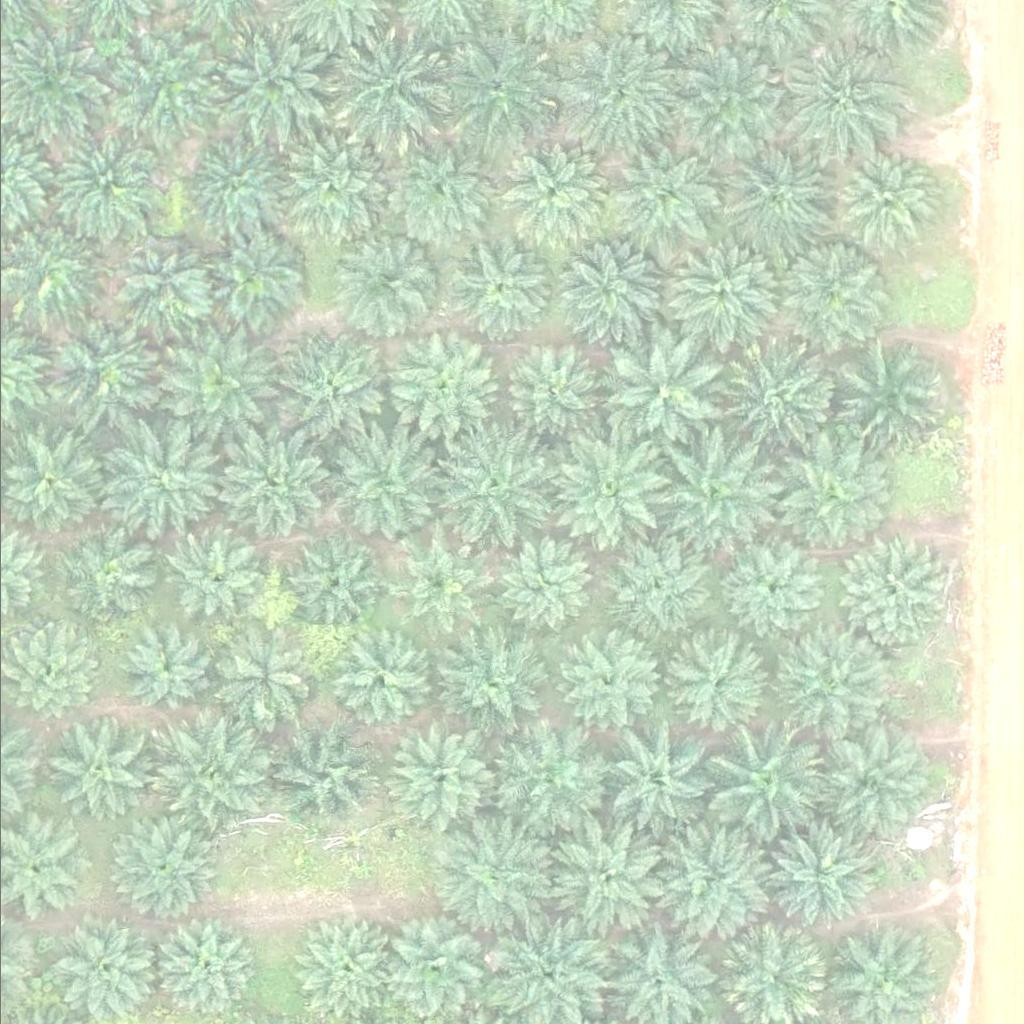Kelapa_Sawit: (104, 811, 218, 924), (762, 822, 876, 935), (553, 822, 667, 935), (493, 721, 607, 834), (552, 438, 666, 551), (608, 335, 722, 448), (603, 143, 717, 256), (210, 30, 324, 143), (649, 818, 762, 931), (435, 815, 548, 928), (712, 728, 825, 841), (438, 626, 551, 739), (142, 718, 255, 831), (831, 535, 944, 648), (770, 433, 883, 546), (94, 418, 207, 531), (162, 325, 275, 438), (278, 332, 391, 445), (389, 324, 502, 437), (774, 236, 887, 349), (670, 237, 783, 350), (438, 230, 551, 343), (330, 225, 443, 338), (196, 222, 309, 335), (272, 123, 385, 236), (715, 134, 828, 247), (669, 48, 782, 161), (565, 28, 678, 141), (773, 632, 887, 744), (323, 433, 437, 545), (495, 141, 609, 253), (374, 728, 487, 840), (599, 722, 712, 834), (811, 726, 924, 838), (271, 716, 384, 828), (603, 526, 716, 638), (655, 436, 768, 548), (435, 432, 548, 544), (218, 429, 331, 541), (37, 315, 150, 427), (834, 345, 947, 457), (723, 338, 836, 450), (545, 231, 658, 343), (52, 135, 165, 247), (384, 134, 497, 246), (781, 42, 894, 154), (441, 35, 554, 147), (328, 36, 441, 148), (101, 28, 214, 140), (149, 922, 250, 1022), (56, 919, 157, 1019), (386, 917, 487, 1017), (670, 634, 771, 734), (324, 634, 425, 734), (213, 630, 314, 730), (289, 537, 390, 637), (497, 531, 598, 631), (729, 536, 830, 636), (111, 238, 212, 338), (175, 137, 276, 237), (833, 144, 934, 244), (296, 921, 396, 1021), (560, 633, 660, 733), (42, 722, 142, 822), (166, 530, 266, 630), (391, 536, 491, 636), (502, 340, 602, 440), (64, 528, 152, 616), (120, 624, 208, 711)
